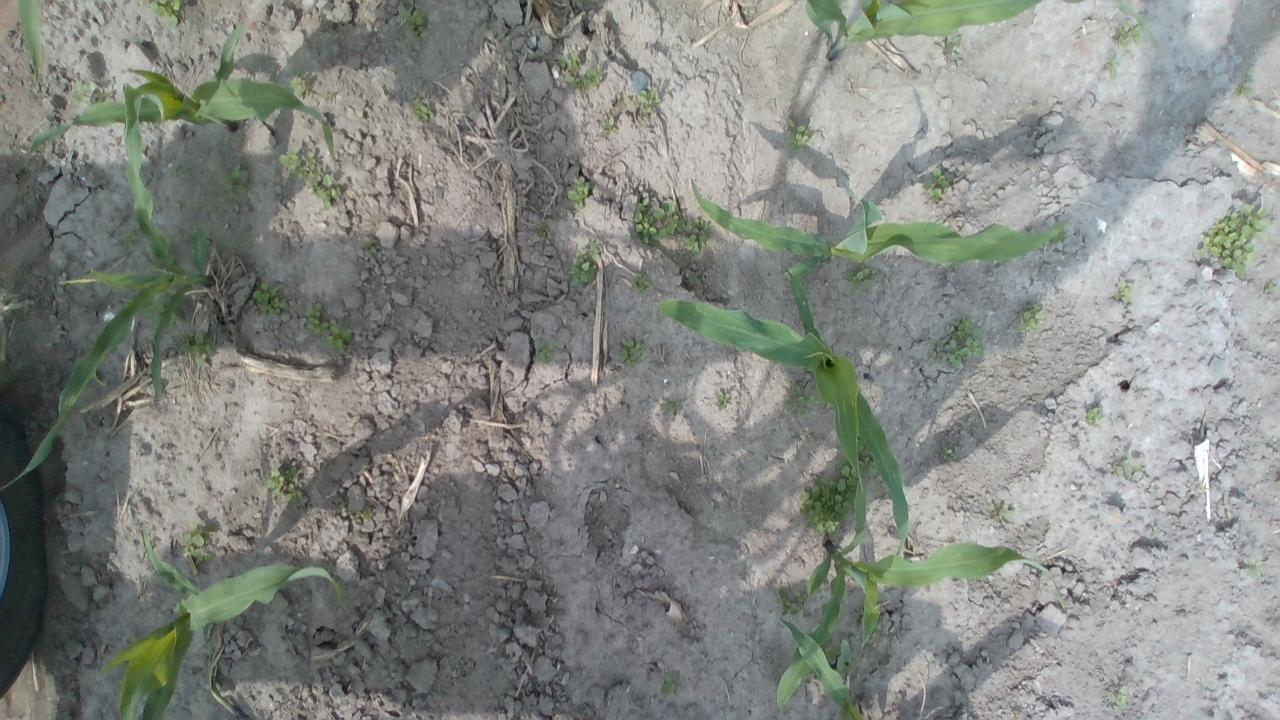Maize: (1, 83, 212, 499), (654, 268, 910, 568), (776, 485, 1059, 718), (93, 532, 352, 720), (27, 27, 337, 162), (684, 177, 1068, 283), (806, 0, 1157, 63), (782, 620, 859, 720), (18, 0, 45, 73)
Weeds: (1196, 203, 1272, 275), (277, 142, 342, 209), (799, 477, 856, 538), (928, 318, 985, 370), (634, 194, 686, 245), (558, 54, 604, 92), (783, 379, 826, 419), (174, 327, 216, 365), (264, 465, 304, 503), (570, 244, 604, 288), (254, 280, 290, 317), (183, 521, 213, 562), (1110, 448, 1144, 482), (146, 0, 182, 31), (324, 317, 354, 354), (782, 118, 812, 154), (684, 218, 712, 256), (921, 167, 950, 202), (73, 82, 114, 105), (302, 300, 328, 336), (398, 8, 428, 38), (1118, 16, 1146, 48), (222, 164, 250, 195), (636, 87, 662, 120), (620, 338, 648, 368), (847, 264, 878, 290), (1016, 304, 1044, 332), (931, 34, 961, 59), (567, 177, 590, 209), (836, 458, 857, 492), (776, 591, 804, 615), (120, 224, 144, 251), (857, 445, 877, 476), (1112, 280, 1134, 306), (1238, 67, 1256, 97), (288, 74, 310, 98), (536, 343, 560, 364), (634, 270, 653, 294), (1242, 557, 1264, 577), (1112, 686, 1130, 710), (1084, 405, 1104, 426), (1104, 56, 1120, 80), (662, 677, 681, 696), (414, 102, 434, 120), (992, 506, 1014, 522), (942, 443, 956, 463), (822, 643, 841, 657), (362, 238, 376, 256), (536, 223, 550, 240), (664, 399, 678, 416), (1052, 229, 1066, 243), (718, 391, 728, 408), (601, 118, 615, 130), (1264, 282, 1278, 294), (1151, 525, 1162, 536), (360, 510, 370, 520)
